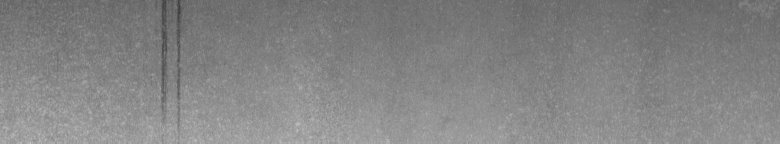ka: (148, 4, 188, 128)
